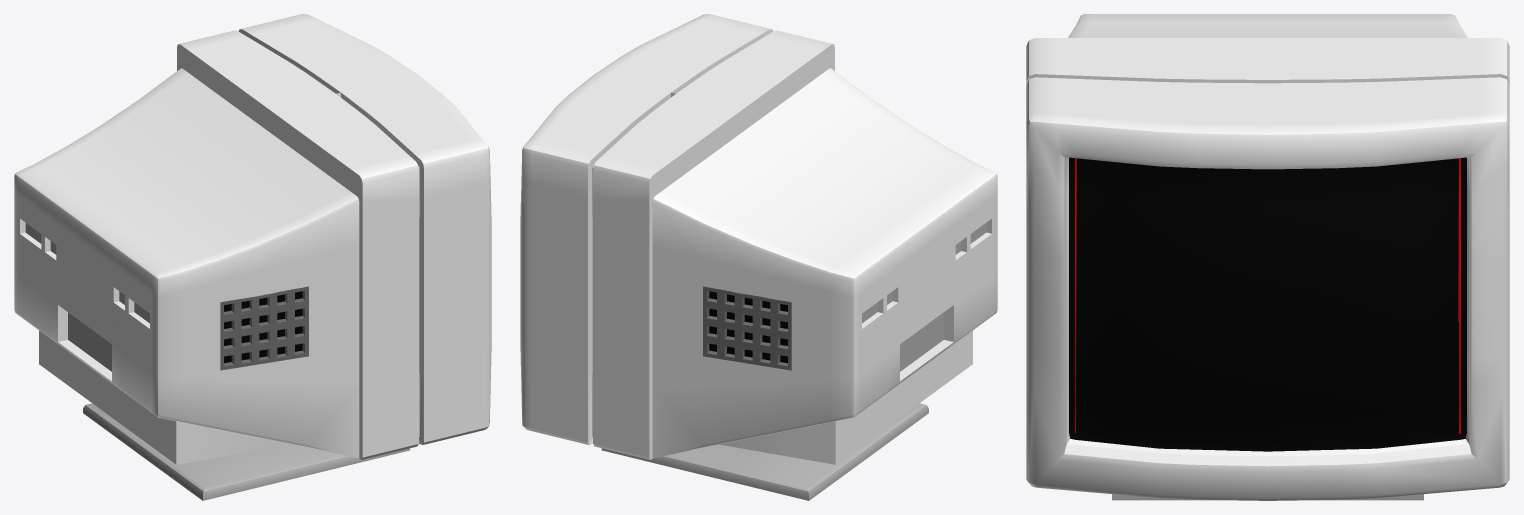
The model's file is monitor.glb.
3 renders of one model, left to right at view 1: azimuth 30°, elevation 25°; view 2: azimuth 150°, elevation 25°; view 3: azimuth 270°, elevation 25°, orthographic. The views are drawn at different scales.
Visible parts, largest first — view 1: Mesh_Monitor_003; view 2: Mesh_Monitor_003; view 3: Mesh_Monitor_003, Mesh_Monitor_003.001.
Boxes of the visible parts, x1,y1,x2,y2 form: Mesh_Monitor_003: [14, 14, 491, 500]; Mesh_Monitor_003: [520, 14, 997, 500]; Mesh_Monitor_003: [1026, 14, 1509, 500]; Mesh_Monitor_003.001: [1069, 157, 1466, 451].
Bounding box in the file's own units: 0.6311 × 0.5629 × 0.5994.
Materials: 2 (2 with a texture image).
